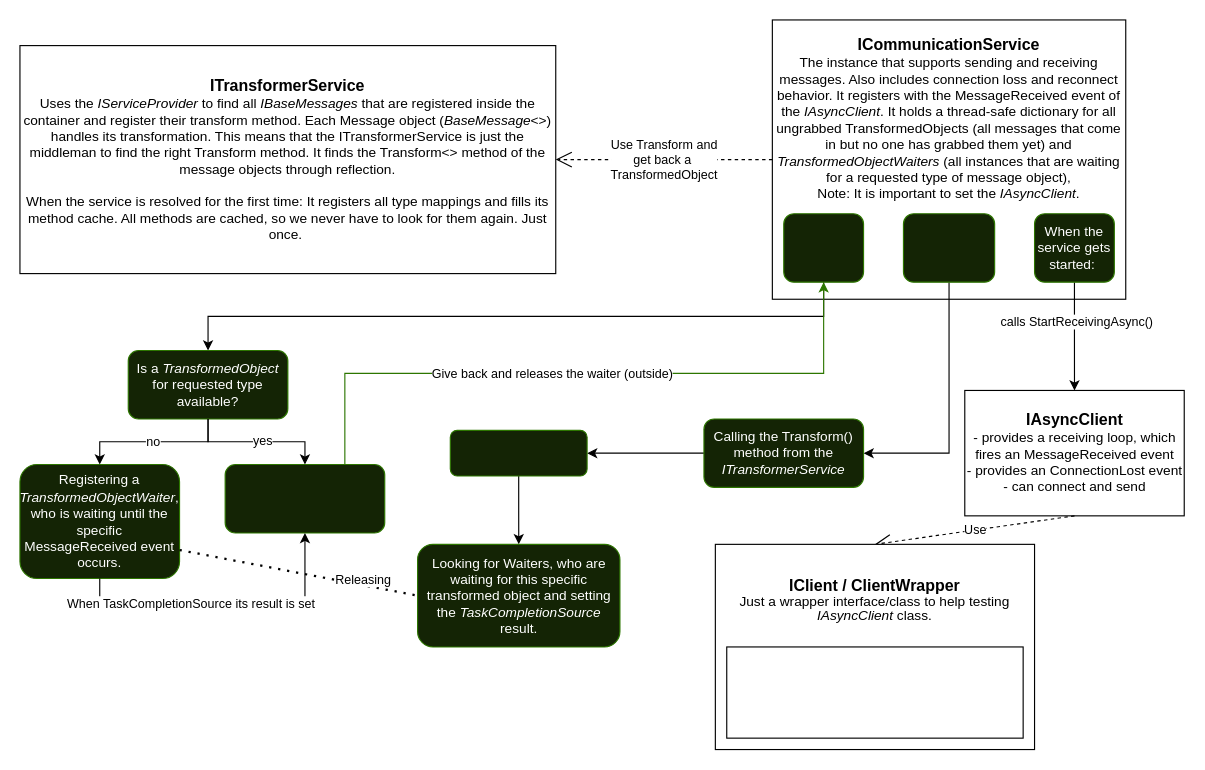
The diagram is 1205 pixels wide and 770 high, and some of its shapes have lost their labels. The box of each missing label's shape, as (x1, y1, x2, y2) in pixels:
Add and update collection: (449, 429, 587, 476)
Give back the result and update the collection.: (224, 463, 385, 533)
TcpClient from Net.Sockets: (726, 646, 1023, 738)
When Message-Received event occurs: (902, 213, 995, 282)
When Receiving is requested:: (783, 213, 864, 282)
